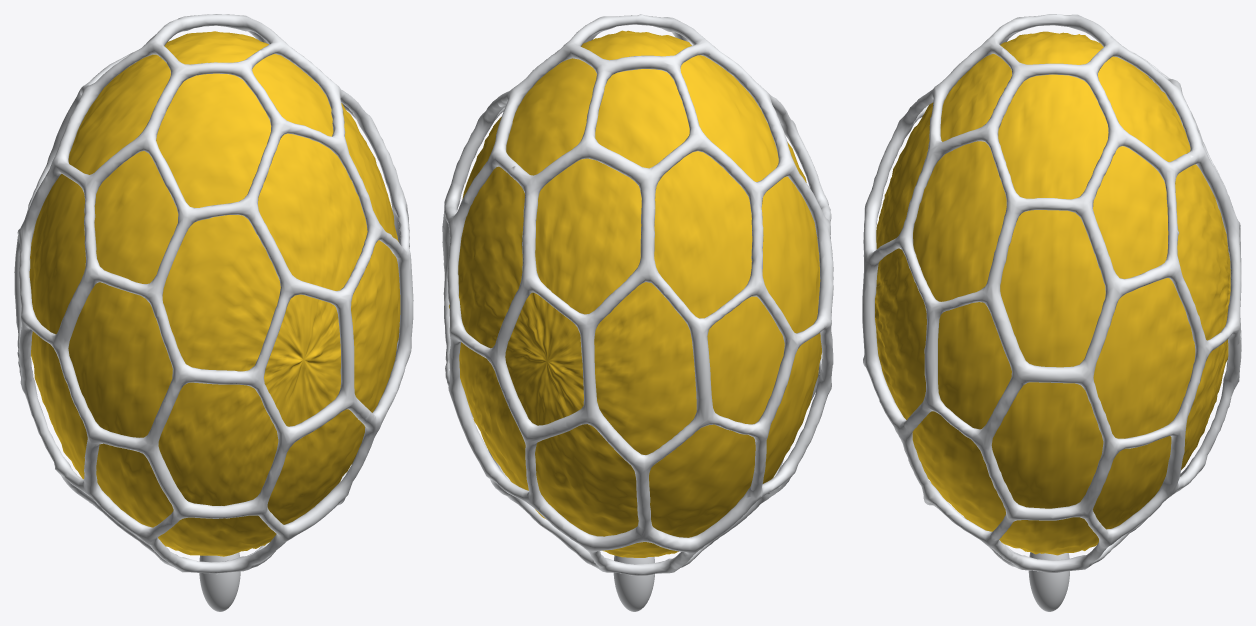
File: chrome-wrapped-lemon.glb
3 views of the same model, side by side, from view 1: azimuth 30°, elevation 25°; view 2: azimuth 150°, elevation 25°; view 3: azimuth 270°, elevation 25° (orthographic).
Visible parts, largest first — view 1: Dimpled whole lemon, Continuous liquid metal cage, Chrome droplet; view 2: Dimpled whole lemon, Continuous liquid metal cage, Chrome droplet; view 3: Dimpled whole lemon, Continuous liquid metal cage, Chrome droplet.
Boxes of the visible parts, x1,y1,x2,y2 form: Dimpled whole lemon: (29, 31, 400, 556); Continuous liquid metal cage: (14, 14, 413, 574); Chrome droplet: (199, 552, 240, 611); Dimpled whole lemon: (449, 30, 821, 557); Continuous liquid metal cage: (442, 14, 833, 575); Chrome droplet: (613, 555, 654, 611); Dimpled whole lemon: (875, 31, 1230, 555); Continuous liquid metal cage: (862, 14, 1241, 572); Chrome droplet: (1028, 552, 1069, 611).
Size of the model in its own units: 1.48 by 2.29 by 1.37.
